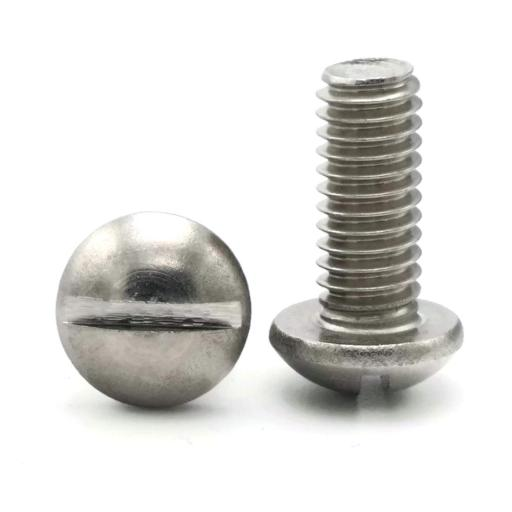Slotted: (55, 214, 254, 410)
